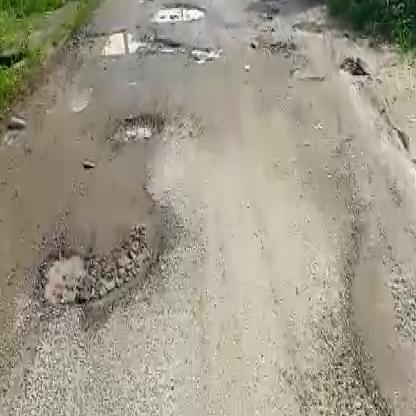pothole: (30, 212, 174, 324), (111, 109, 170, 144), (106, 33, 190, 57), (148, 1, 206, 22), (187, 43, 221, 63)
